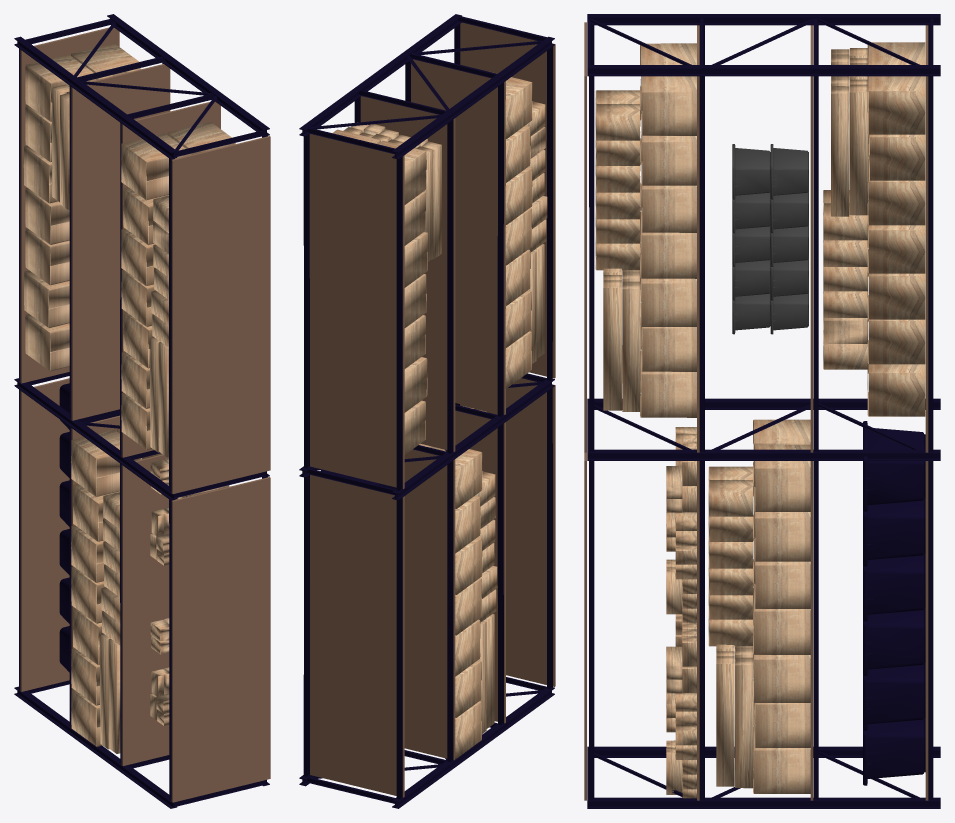
File: warehouse_shelf_type_B.glb
3 views of the same model, side by side, from view 1: azimuth 30°, elevation 25°; view 2: azimuth 150°, elevation 25°; view 3: azimuth 270°, elevation 25° (orthographic). The views are drawn at different scales.
Parts seen in each view (by area): view 1: 07. lemari.003; view 2: 07. lemari.003; view 3: 07. lemari.003.
Boxes of the visible parts, bbox=[...] form: 07. lemari.003: bbox=[14, 14, 270, 808]; 07. lemari.003: bbox=[299, 14, 555, 808]; 07. lemari.003: bbox=[584, 14, 940, 808].
Size of the model in its own units: 1.22 by 7.52 by 3.28.
Materials: 4 (1 with a texture image).
